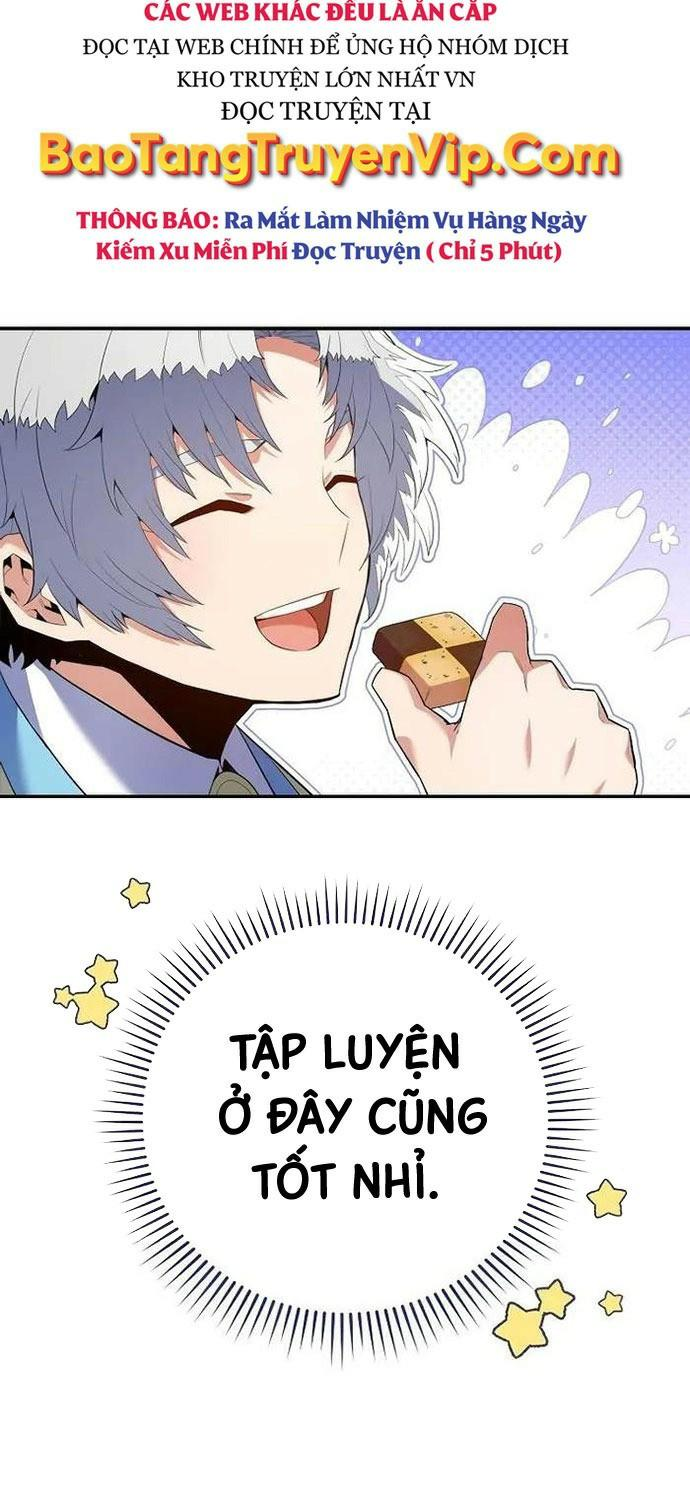quangcao: (34, 0, 626, 276)
